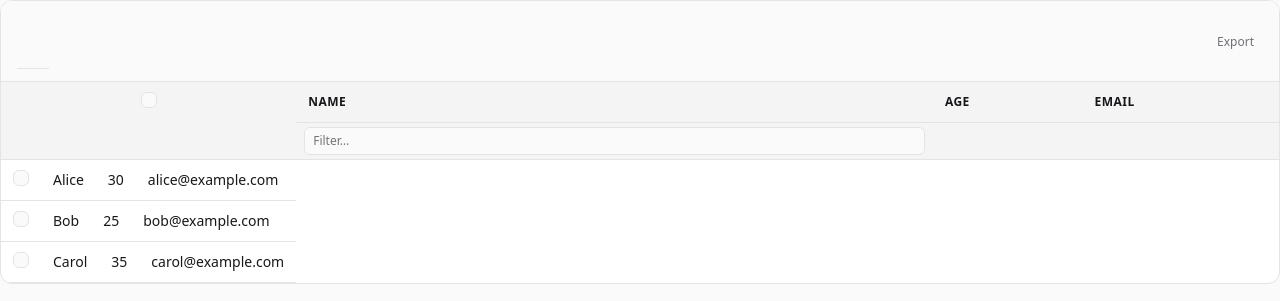
LuDataGrid › shows selection bar text when rows are selected
The width and height of the screenshot is (1280, 301).
Click the checkbox in the row of "30": [21, 178] box [13,170,29,186]
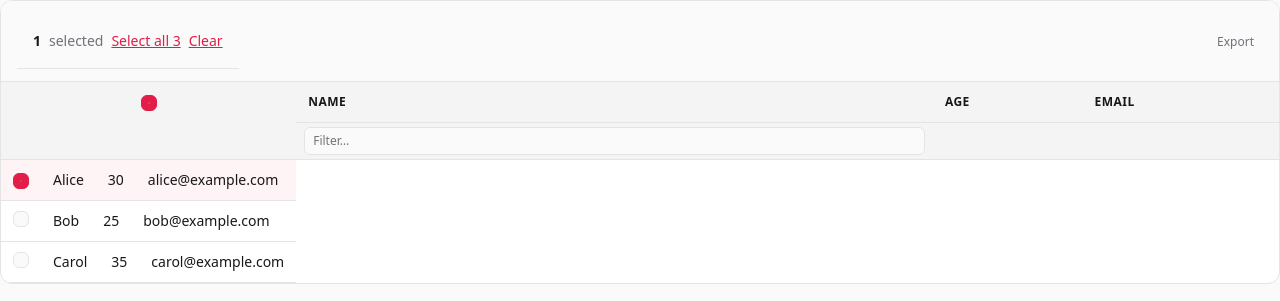
Expected: the text "selected" is shown, [49,30,103,51]
